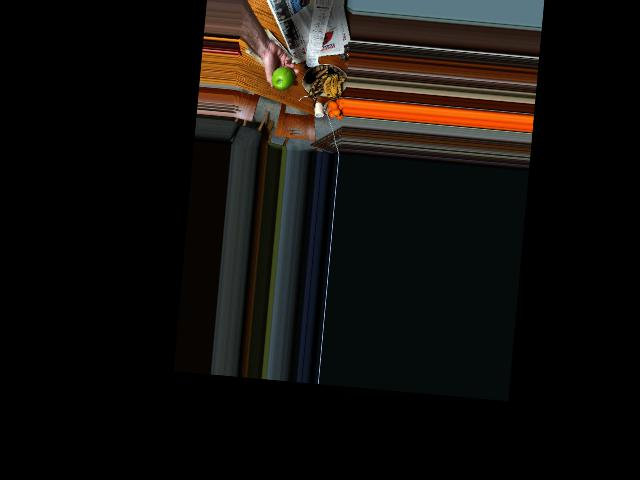apple: (270, 64, 297, 92)
